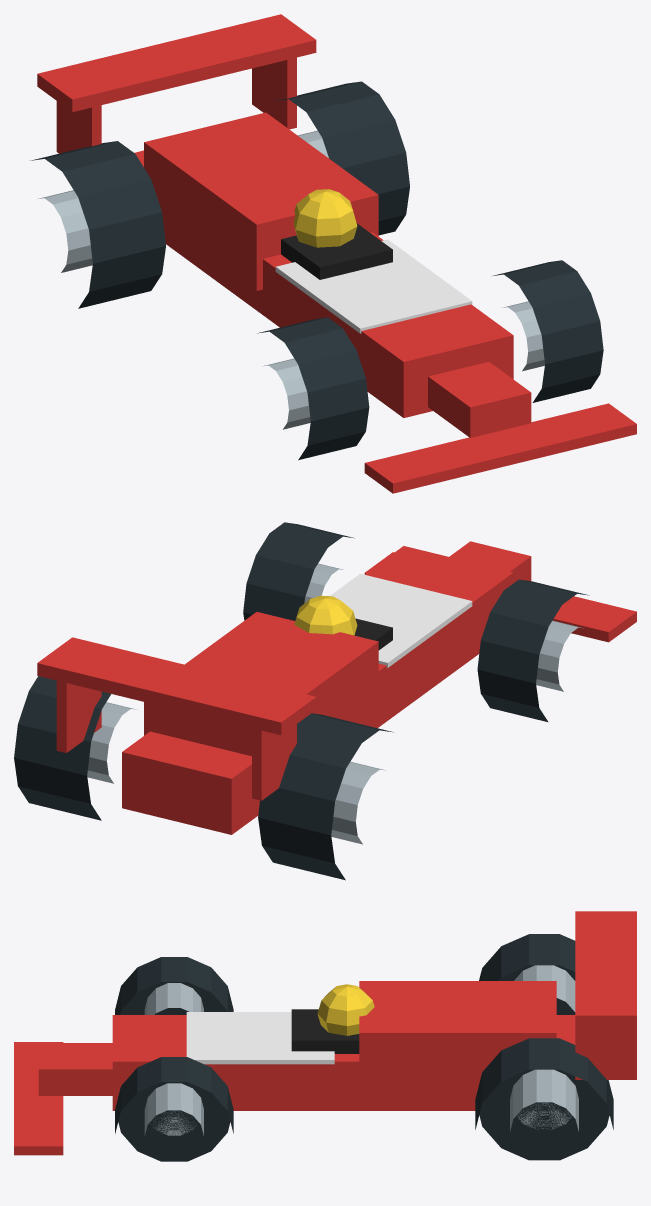
File: formelbil.glb
The picture shows the model from 3 angles, top to bottom: view 1: azimuth 30°, elevation 25°; view 2: azimuth 150°, elevation 25°; view 3: azimuth 270°, elevation 25°; orthographic projection. The views are drawn at different scales.
Visible parts, largest first — view 1: formelbil; view 2: formelbil; view 3: formelbil.
Part boxes in pixels (box(x1,y1,x2,y2)): formelbil: box(30, 14, 636, 493); formelbil: box(14, 522, 636, 880); formelbil: box(14, 911, 636, 1161).
Bounding box in the file's own units: 1.34 × 0.7189 × 2.52.
